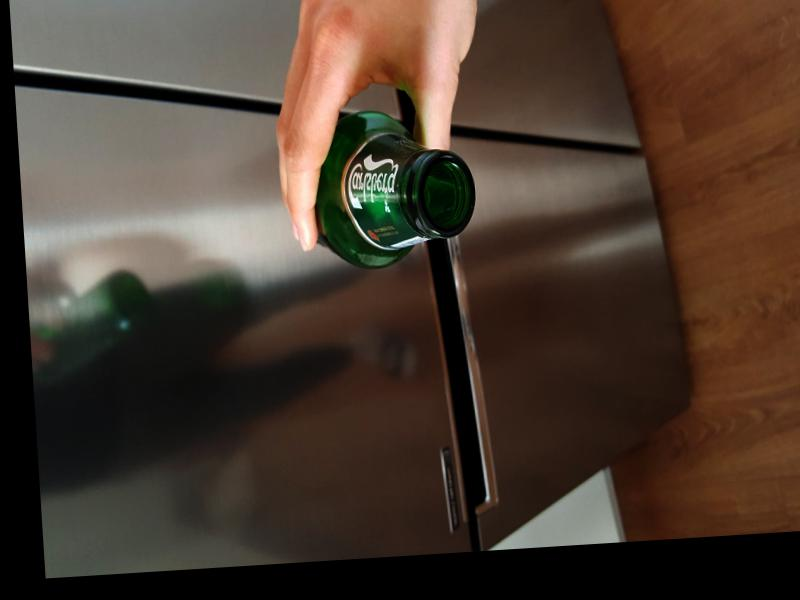Beer: (309, 109, 480, 271)
